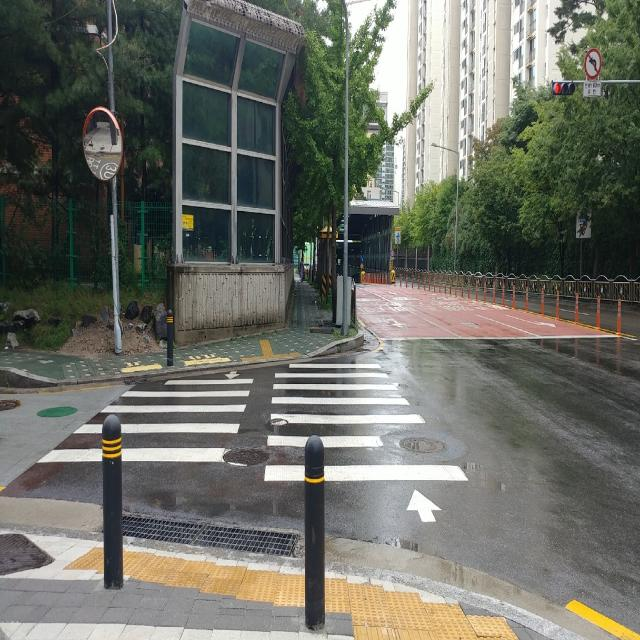횡단보도: (36, 363, 469, 528)
